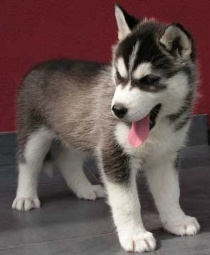dog: (11, 5, 200, 252)
